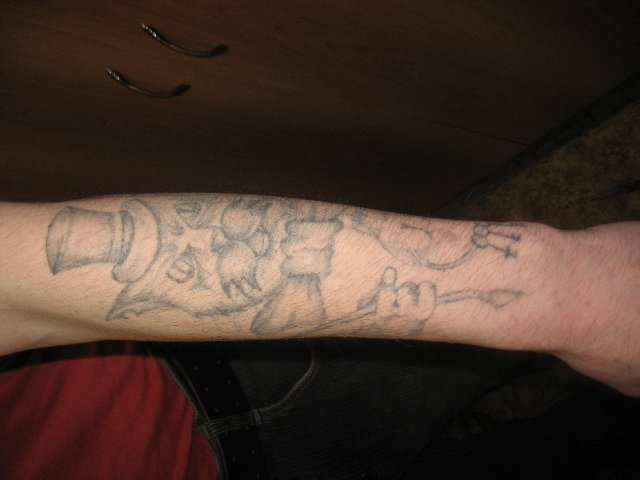tatu8_kot: (52, 194, 563, 348)
